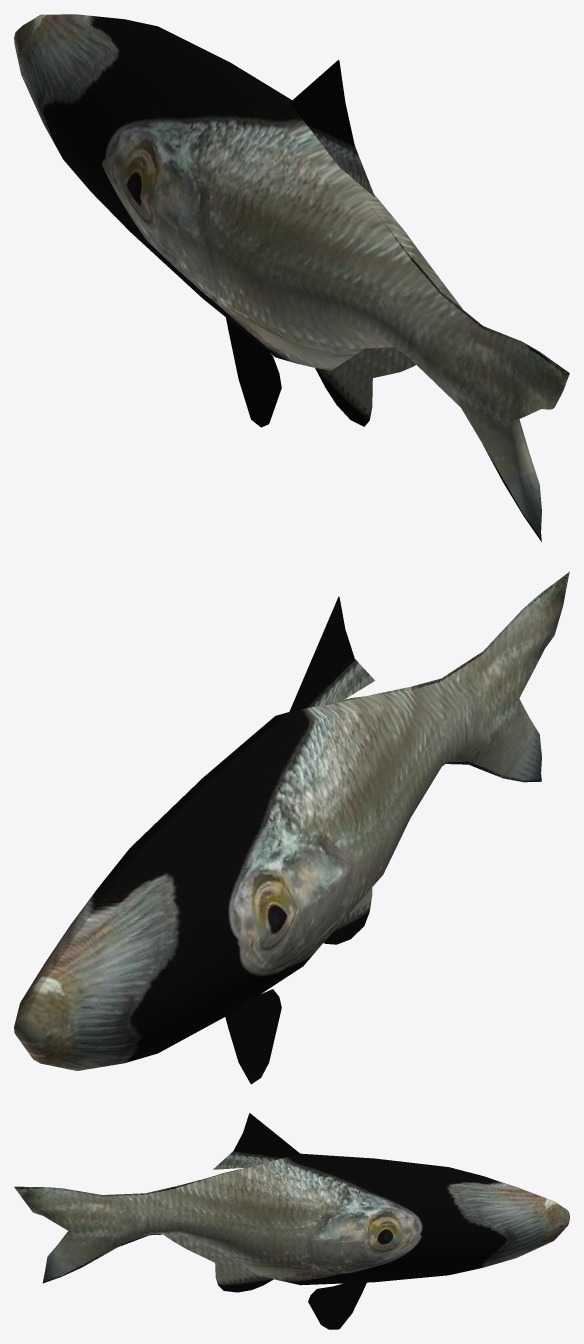
The model's file is fish1.obj.
3 renders of one model, top to bottom at view 1: azimuth 30°, elevation 25°; view 2: azimuth 150°, elevation 25°; view 3: azimuth 270°, elevation 25°, orthographic. The views are drawn at different scales.
Parts seen in each view (by area): view 1: Plane.040; view 2: Plane.040; view 3: Plane.040.
Part boxes in pixels (bbox=[...]): Plane.040: bbox=[14, 14, 569, 541]; Plane.040: bbox=[14, 571, 569, 1084]; Plane.040: bbox=[14, 1113, 569, 1329].
Bounding box in the file's own units: 0.313 × 0.8576 × 1.99.
Materials: 1 (1 with a texture image).
